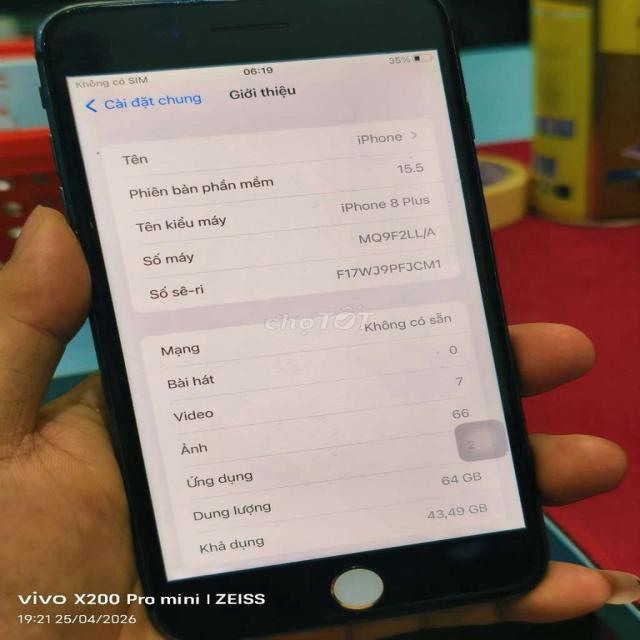gen_7_8: (32, 0, 552, 637)
scratch: (55, 2, 120, 17), (40, 38, 54, 48)
